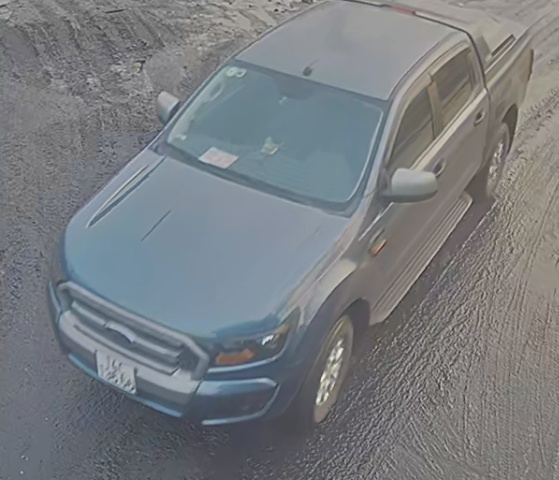vehicle plate: (80, 339, 141, 399)
